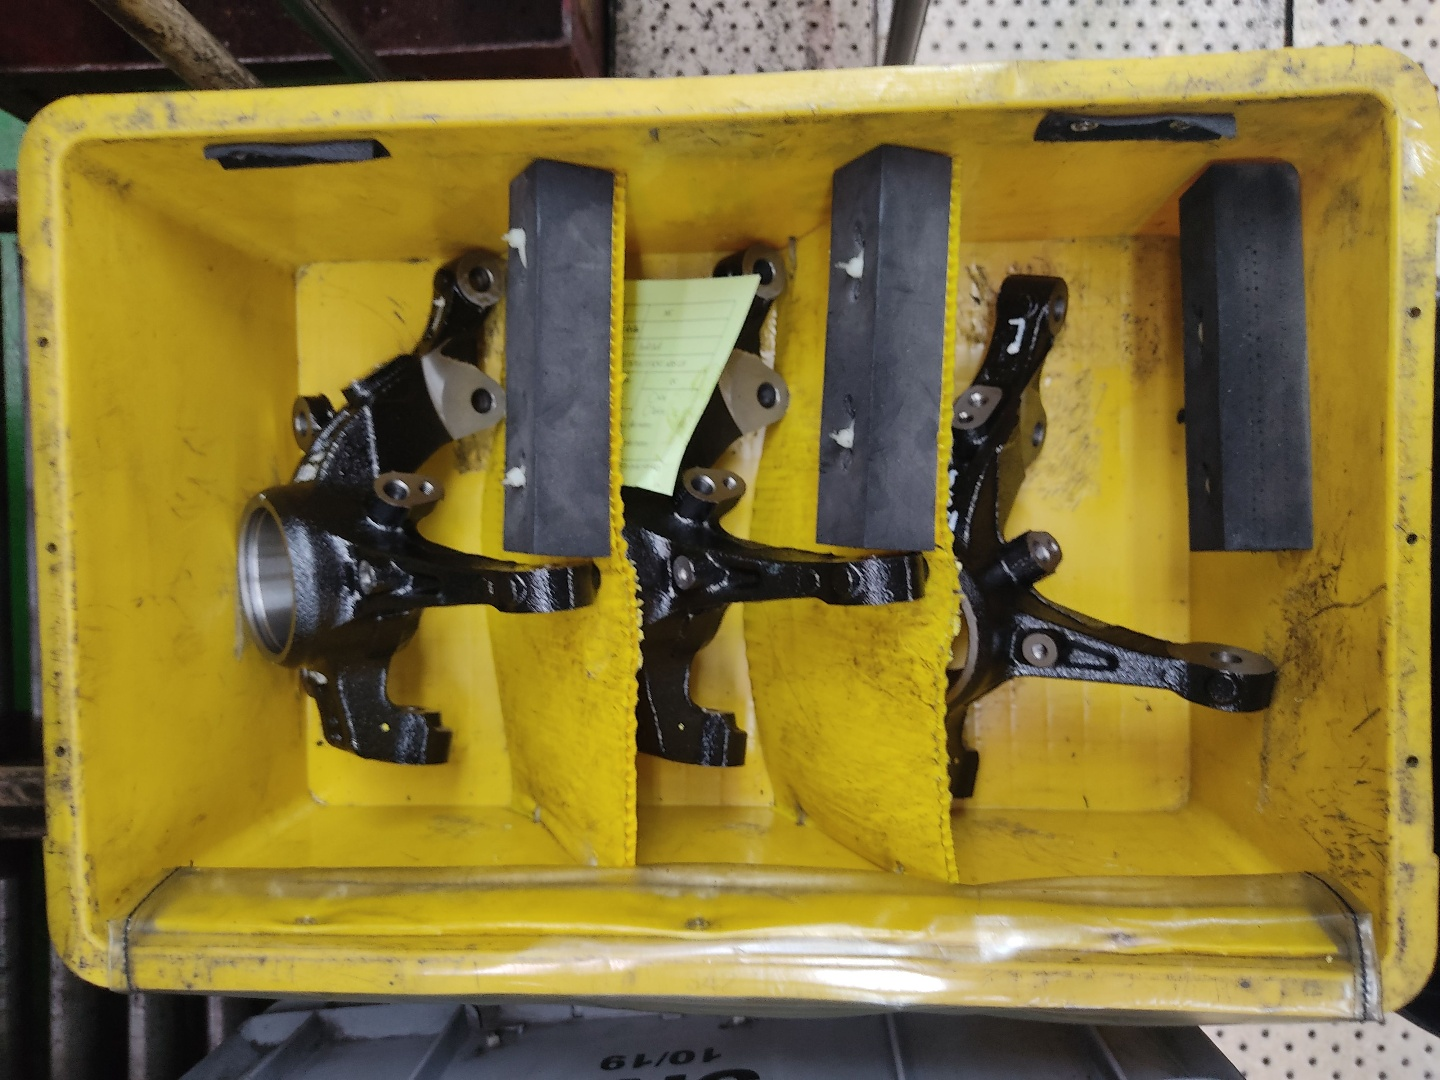abs-lh: (232, 243, 605, 777), (946, 255, 1285, 811), (611, 235, 932, 777)
